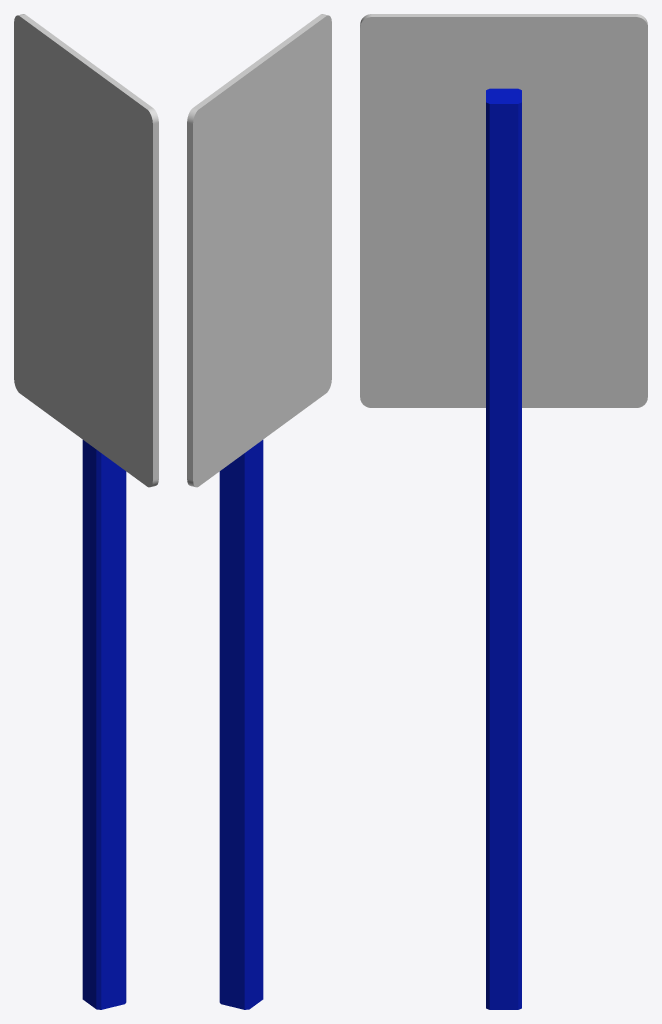
3 renders of one model, left to right at view 1: azimuth 30°, elevation 25°; view 2: azimuth 150°, elevation 25°; view 3: azimuth 270°, elevation 25°, orthographic. The views are drawn at different scales.
Parts seen in each view (by area): view 1: B-55; view 2: B-55; view 3: B-55.
Part boxes in pixels (bbox=[...]): B-55: bbox=[14, 14, 158, 1009]; B-55: bbox=[187, 14, 331, 1009]; B-55: bbox=[360, 14, 647, 1009].
Bounding box in the file's own units: 6 × 150 × 40.
